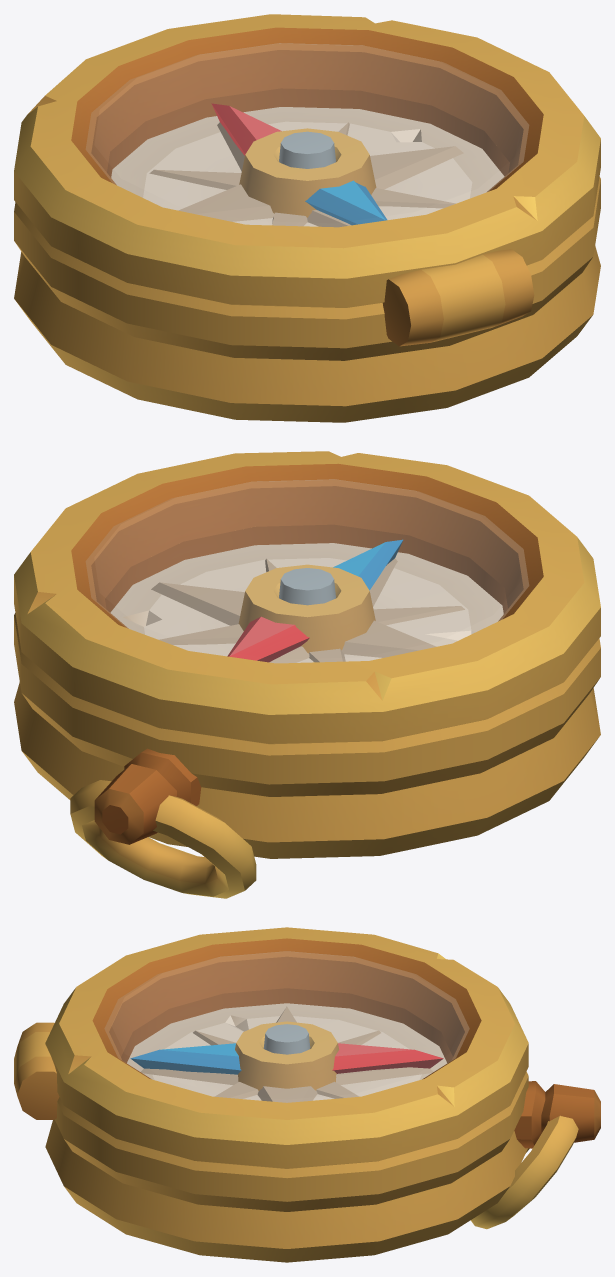
Rendered from compass_base.fbx.
3 renders of one model, top to bottom at view 1: azimuth 30°, elevation 25°; view 2: azimuth 150°, elevation 25°; view 3: azimuth 270°, elevation 25°, orthographic. The views are drawn at different scales.
Visible parts, largest first — view 1: compass_lid, compass_base, compass_needle; view 2: compass_lid, compass_base, compass_needle; view 3: compass_lid, compass_base, compass_needle.
Boxes of the visible parts, x1,y1,x2,y2 form: compass_lid: [14, 14, 600, 346]; compass_base: [14, 88, 600, 422]; compass_needle: [211, 103, 387, 225]; compass_lid: [14, 451, 600, 744]; compass_base: [14, 524, 600, 898]; compass_needle: [227, 539, 402, 662]; compass_lid: [14, 927, 528, 1168]; compass_base: [45, 988, 600, 1262]; compass_needle: [130, 1043, 443, 1074].
Bounding box in the file's own units: 57.4 × 26.64 × 69.71.
